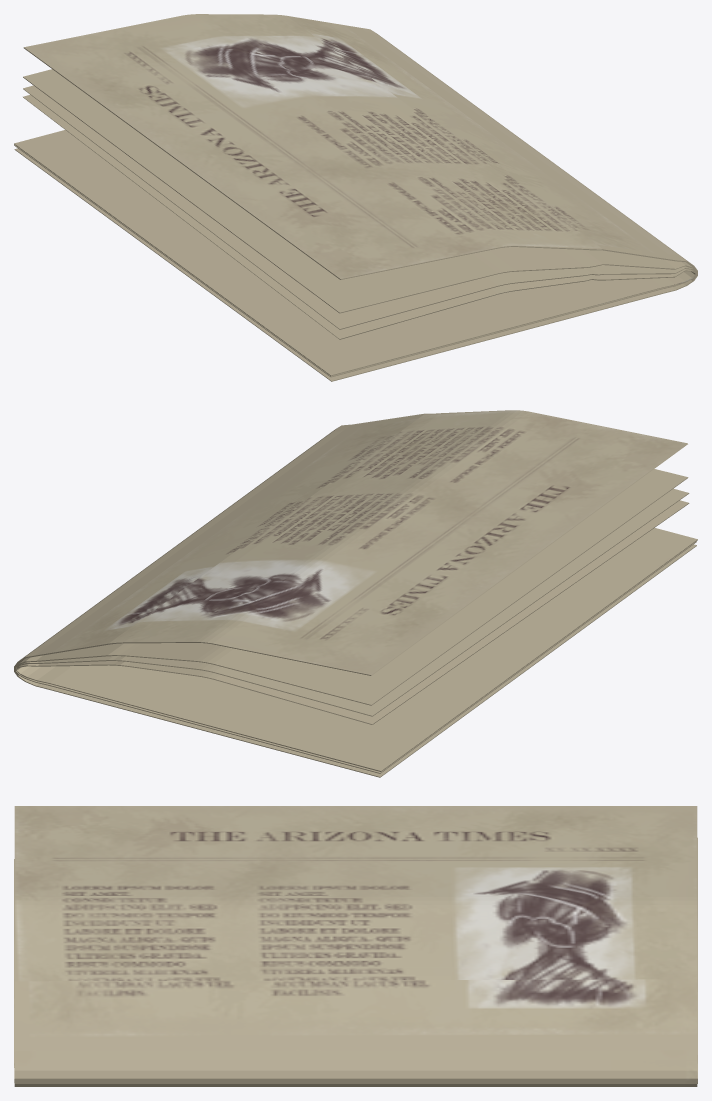
File: Sanomalehti.fbx
The picture shows the model from 3 angles, top to bottom: view 1: azimuth 30°, elevation 25°; view 2: azimuth 150°, elevation 25°; view 3: azimuth 270°, elevation 25°; orthographic projection. The views are drawn at different scales.
Parts seen in each view (by area): view 1: Plane.003; view 2: Plane.003; view 3: Plane.003.
Boxes of the visible parts, x1,y1,x2,y2 form: Plane.003: (14,14,697,381); Plane.003: (14,410,697,777); Plane.003: (14,806,697,1086).
Size of the model in its own units: 202 by 52.84 by 303.
